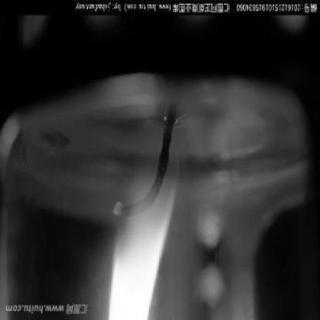Fire: (108, 162, 184, 318)
